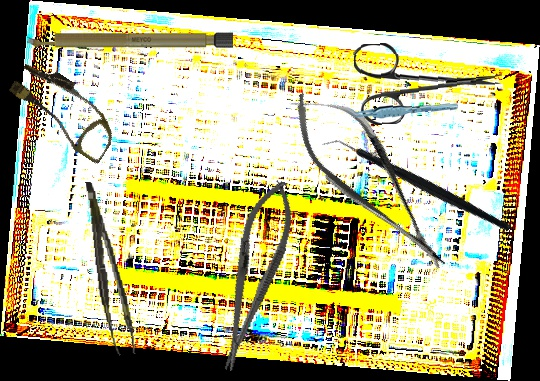Cannula: (1, 55, 128, 165)
Chopper: (321, 87, 512, 284)
Iris Scissors: (352, 37, 505, 126)
Micro Scissor: (273, 71, 467, 291)
Needle Holder: (204, 174, 304, 377)
Scalpel Handle: (27, 32, 233, 48)
Tissue Forceps: (85, 178, 136, 358), (345, 97, 459, 123)
